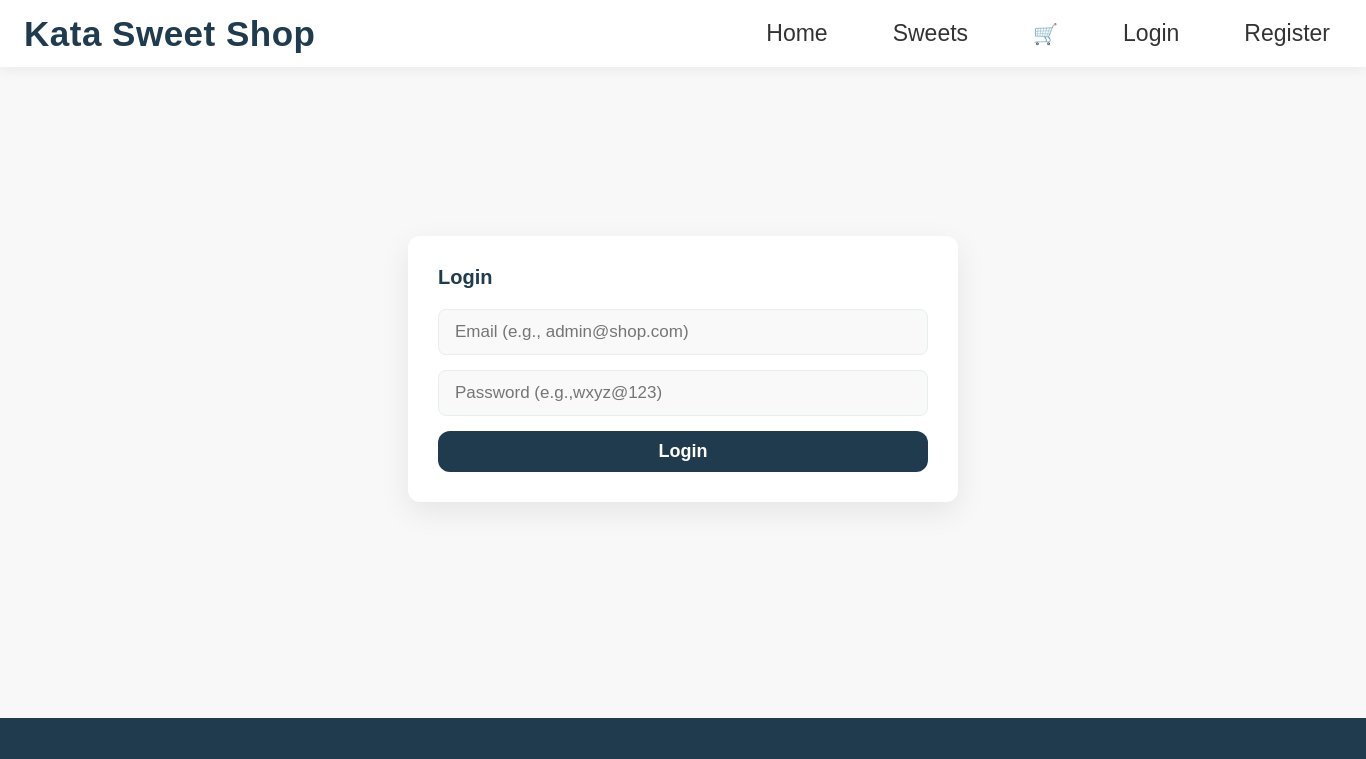
Test: Login Component › 3. should display an error message on failed login
# Simulate form submission
Click the button "Login".
click(683, 452)  # box [438,431,928,472]
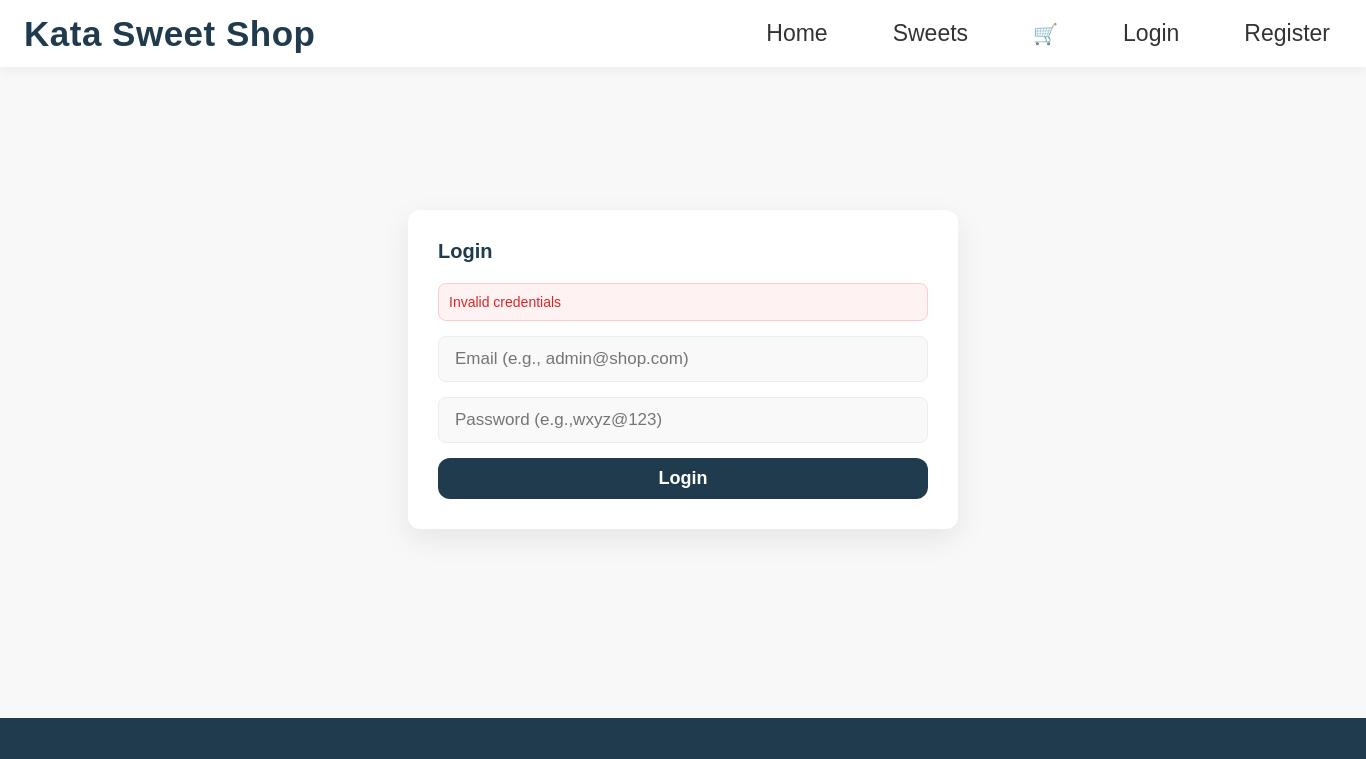
Expected: the text "Invalid credentials" is shown, [438,282,928,320]
